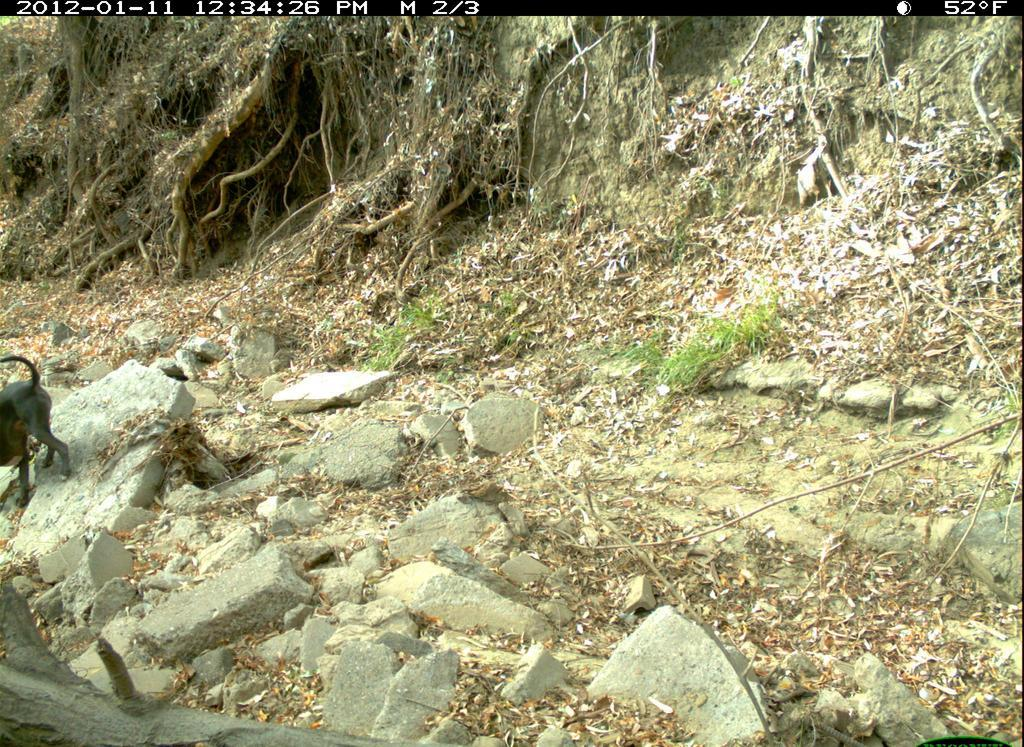dog: (3, 374, 88, 482)
